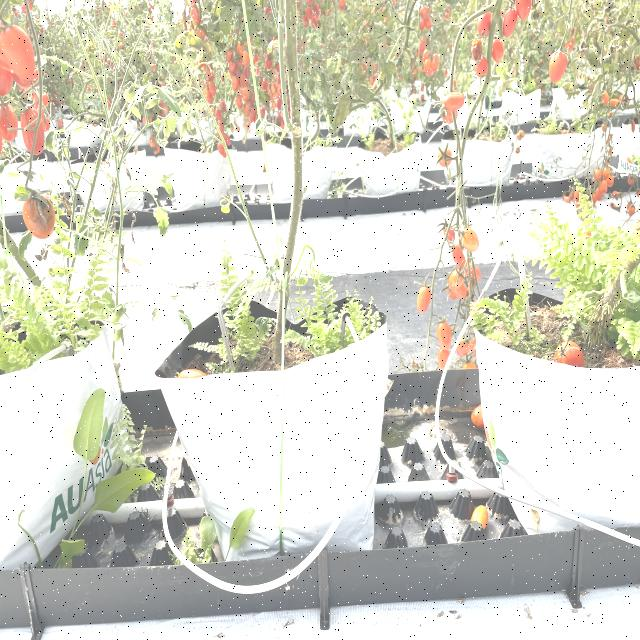Soilbag: (171, 282, 396, 567), (472, 289, 640, 546), (0, 311, 135, 577)
plant: (419, 5, 640, 365), (0, 37, 58, 315), (265, 0, 308, 365)
